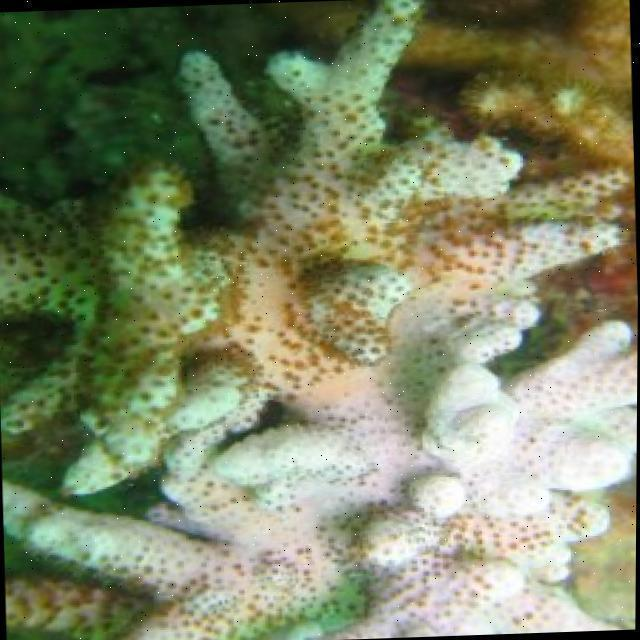Bleached Coral: (0, 0, 640, 640), (13, 308, 639, 640)
